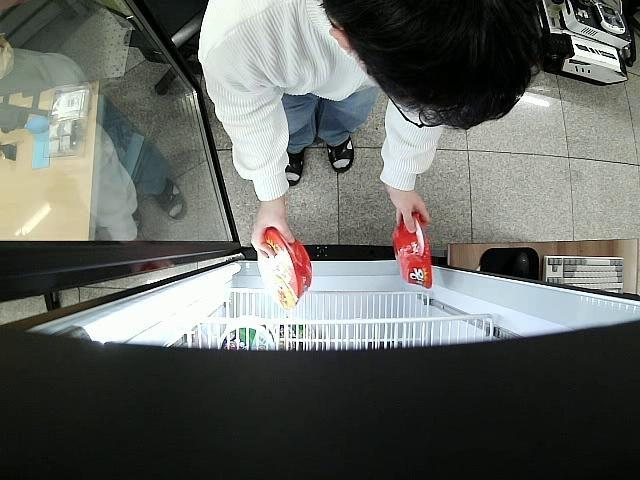10_wangTtukkeong: (256, 227, 311, 310), (392, 212, 433, 290)
